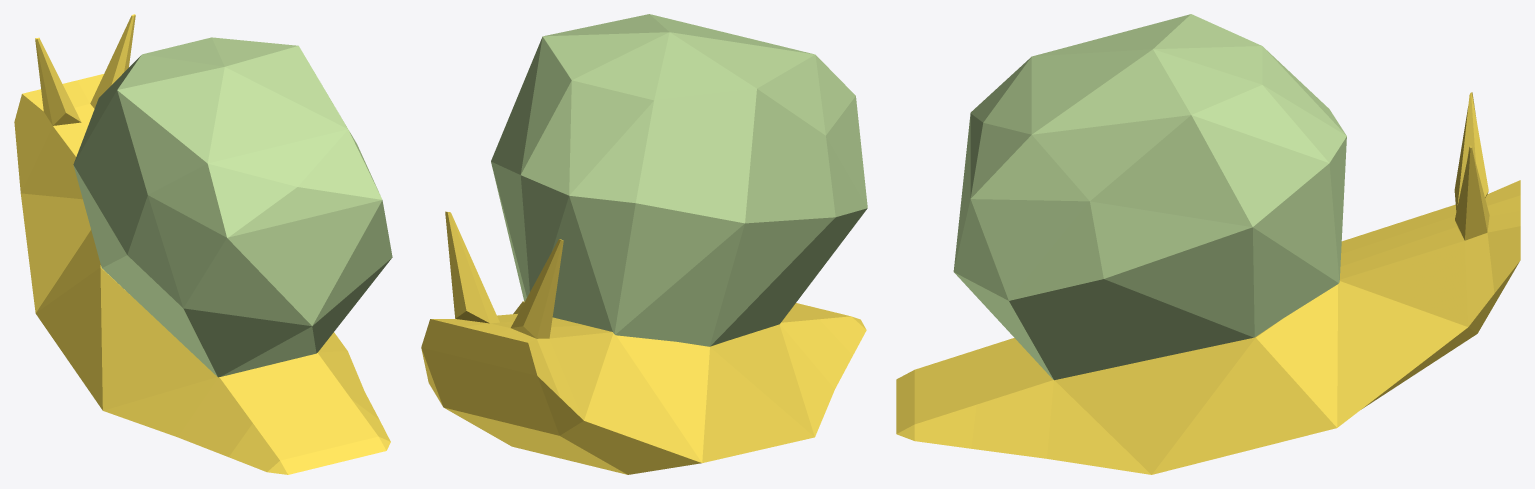
Rendered from snail_bright_green.fbx.
The picture shows the model from 3 angles, left to right: view 1: azimuth 30°, elevation 25°; view 2: azimuth 150°, elevation 25°; view 3: azimuth 270°, elevation 25°; orthographic projection. The views are drawn at different scales.
Parts seen in each view (by area): view 1: Cube.001, Cube; view 2: Cube.001, Cube; view 3: Cube.001, Cube.
Part boxes in pixels (<box>): Cube.001: <box>73,37,392,377</box>; Cube: <box>14,14,390,474</box>; Cube.001: <box>491,14,867,346</box>; Cube: <box>421,211,866,474</box>; Cube.001: <box>953,14,1346,380</box>; Cube: <box>896,92,1520,474</box>.
Size of the model in its own units: 166 by 203 by 321.
Materials: 2 (2 with a texture image).
